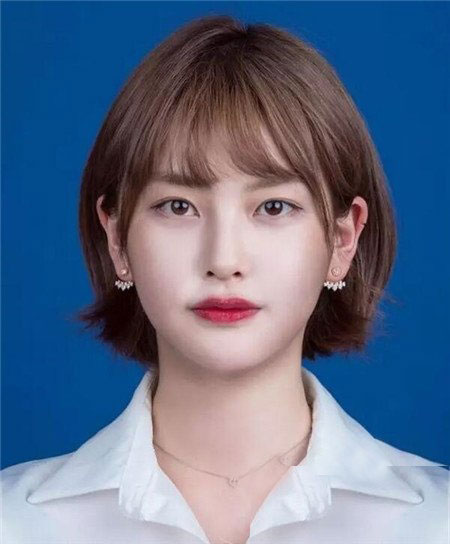unmask: (140, 140, 329, 377)
